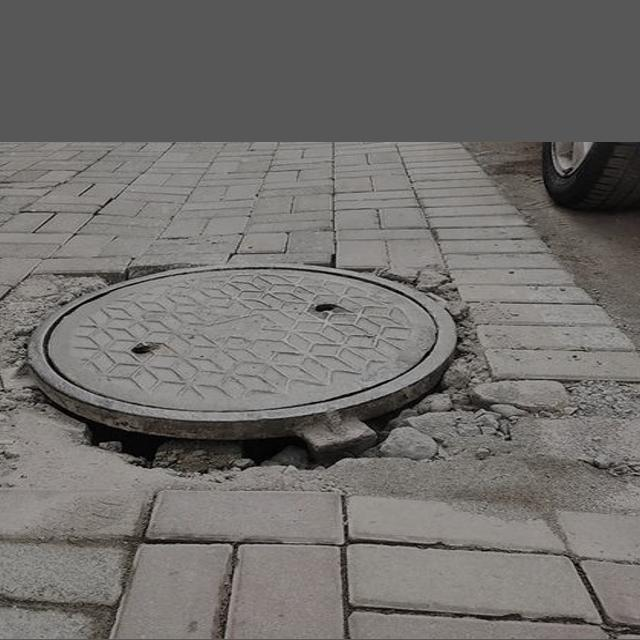circle: (0, 249, 537, 521)
